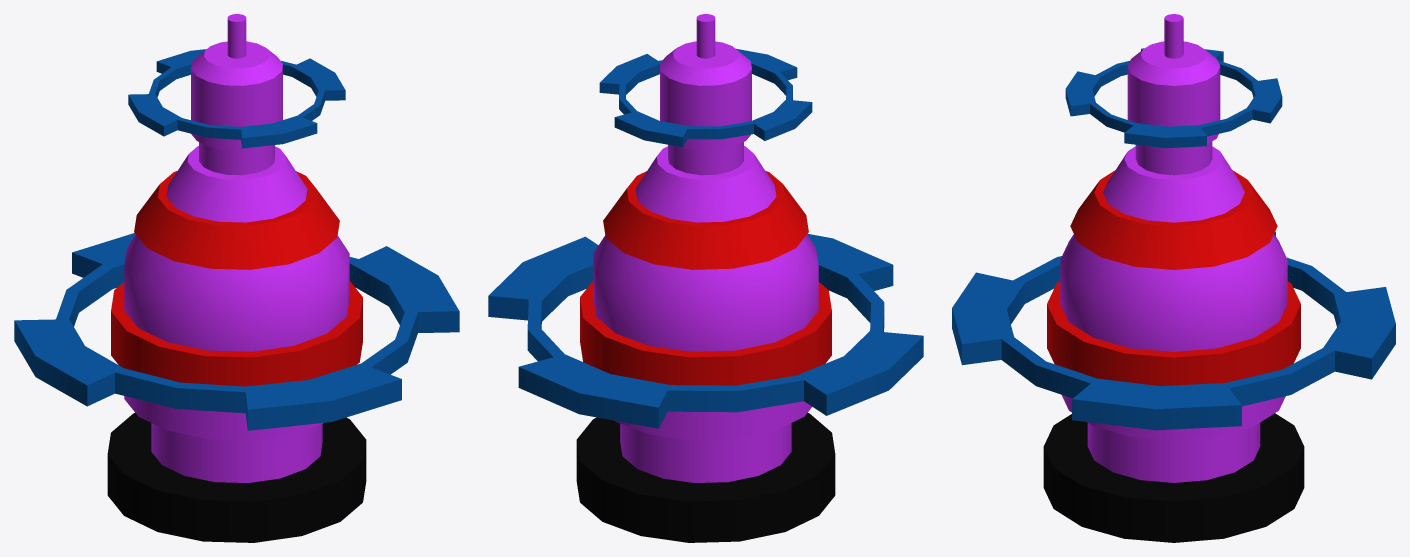
File: support1_1.fbx
3 views of the same model, side by side, from view 1: azimuth 30°, elevation 25°; view 2: azimuth 150°, elevation 25°; view 3: azimuth 270°, elevation 25° (orthographic).
Visible parts, largest first — view 1: Cylinder.026, Cylinder.028, Cylinder.027; view 2: Cylinder.026, Cylinder.028, Cylinder.027; view 3: Cylinder.026, Cylinder.028, Cylinder.027.
Boxes of the visible parts, x1,y1,x2,y2 form: Cylinder.026: (107,14,366,542); Cylinder.028: (14,233,459,430); Cylinder.027: (128,49,345,148); Cylinder.026: (576,14,835,542); Cylinder.028: (488,234,923,428); Cylinder.027: (599,48,812,147); Cylinder.026: (1043,14,1304,542); Cylinder.028: (952,231,1395,430); Cylinder.027: (1065,48,1282,148).
Bounding box in the file's own units: 615 × 719 × 615.
